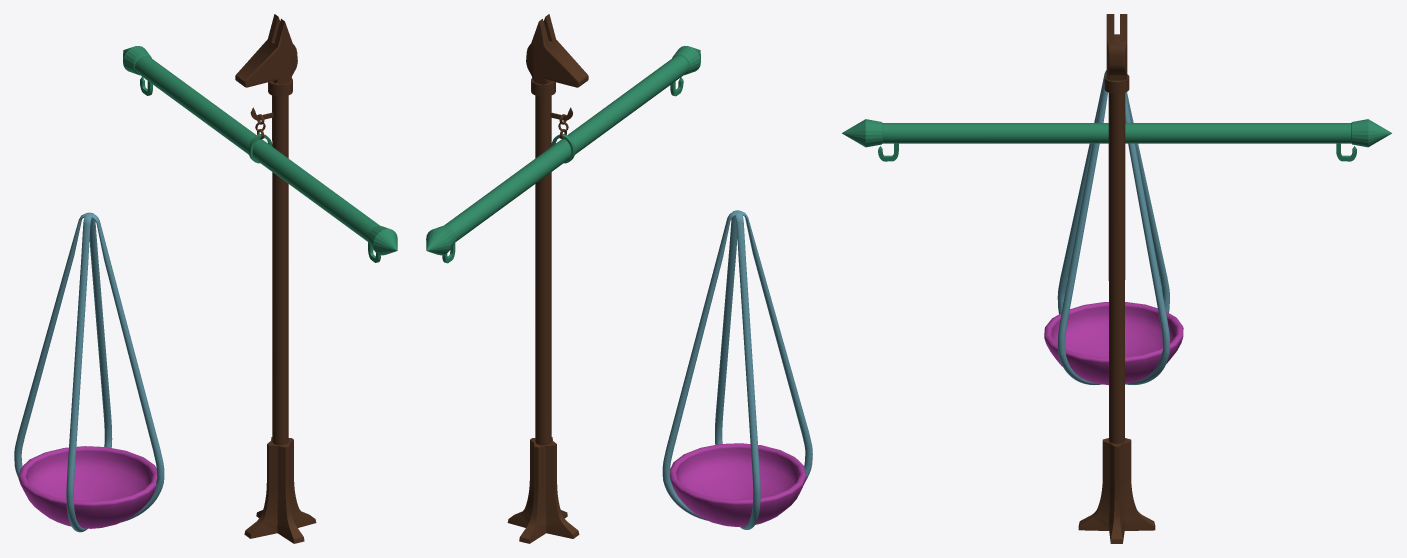
The model's file is Balanza.fbx.
The picture shows the model from 3 angles, left to right: view 1: azimuth 30°, elevation 25°; view 2: azimuth 150°, elevation 25°; view 3: azimuth 270°, elevation 25°; orthographic projection.
Parts seen in each view (by area): view 1: polySurface2, polySurface6, polySurface5, pTorus6; view 2: polySurface2, polySurface6, polySurface5, pTorus6; view 3: pTorus6, polySurface2, polySurface5, polySurface6.
Part boxes in pixels (<box>): polySurface2: <box>235,14,316,543</box>; polySurface6: <box>14,212,164,532</box>; polySurface5: <box>18,446,156,528</box>; pTorus6: <box>123,46,397,262</box>; polySurface2: <box>507,14,588,543</box>; polySurface6: <box>662,210,812,529</box>; polySurface5: <box>670,443,806,526</box>; pTorus6: <box>426,46,700,263</box>; pTorus6: <box>842,119,1391,161</box>; polySurface2: <box>1078,14,1155,543</box>; polySurface5: <box>1044,302,1183,385</box>; polySurface6: <box>1057,70,1169,384</box>.
Bounding box in the file's own units: 12.03 × 20.56 × 20.
